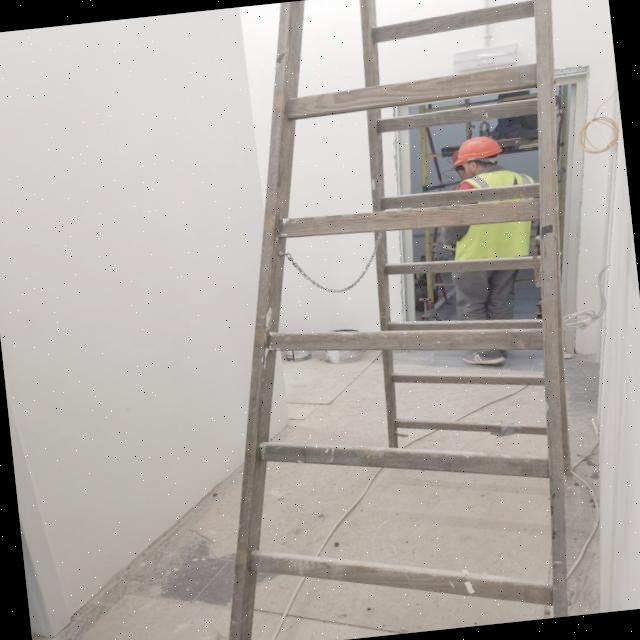Helmet: (452, 133, 505, 178)
